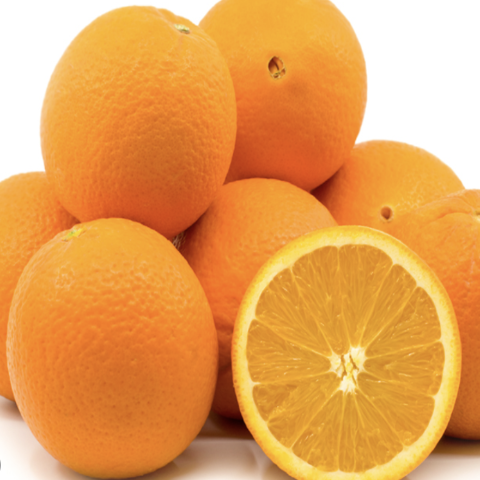orange: (10, 0, 272, 278), (3, 197, 252, 480)
